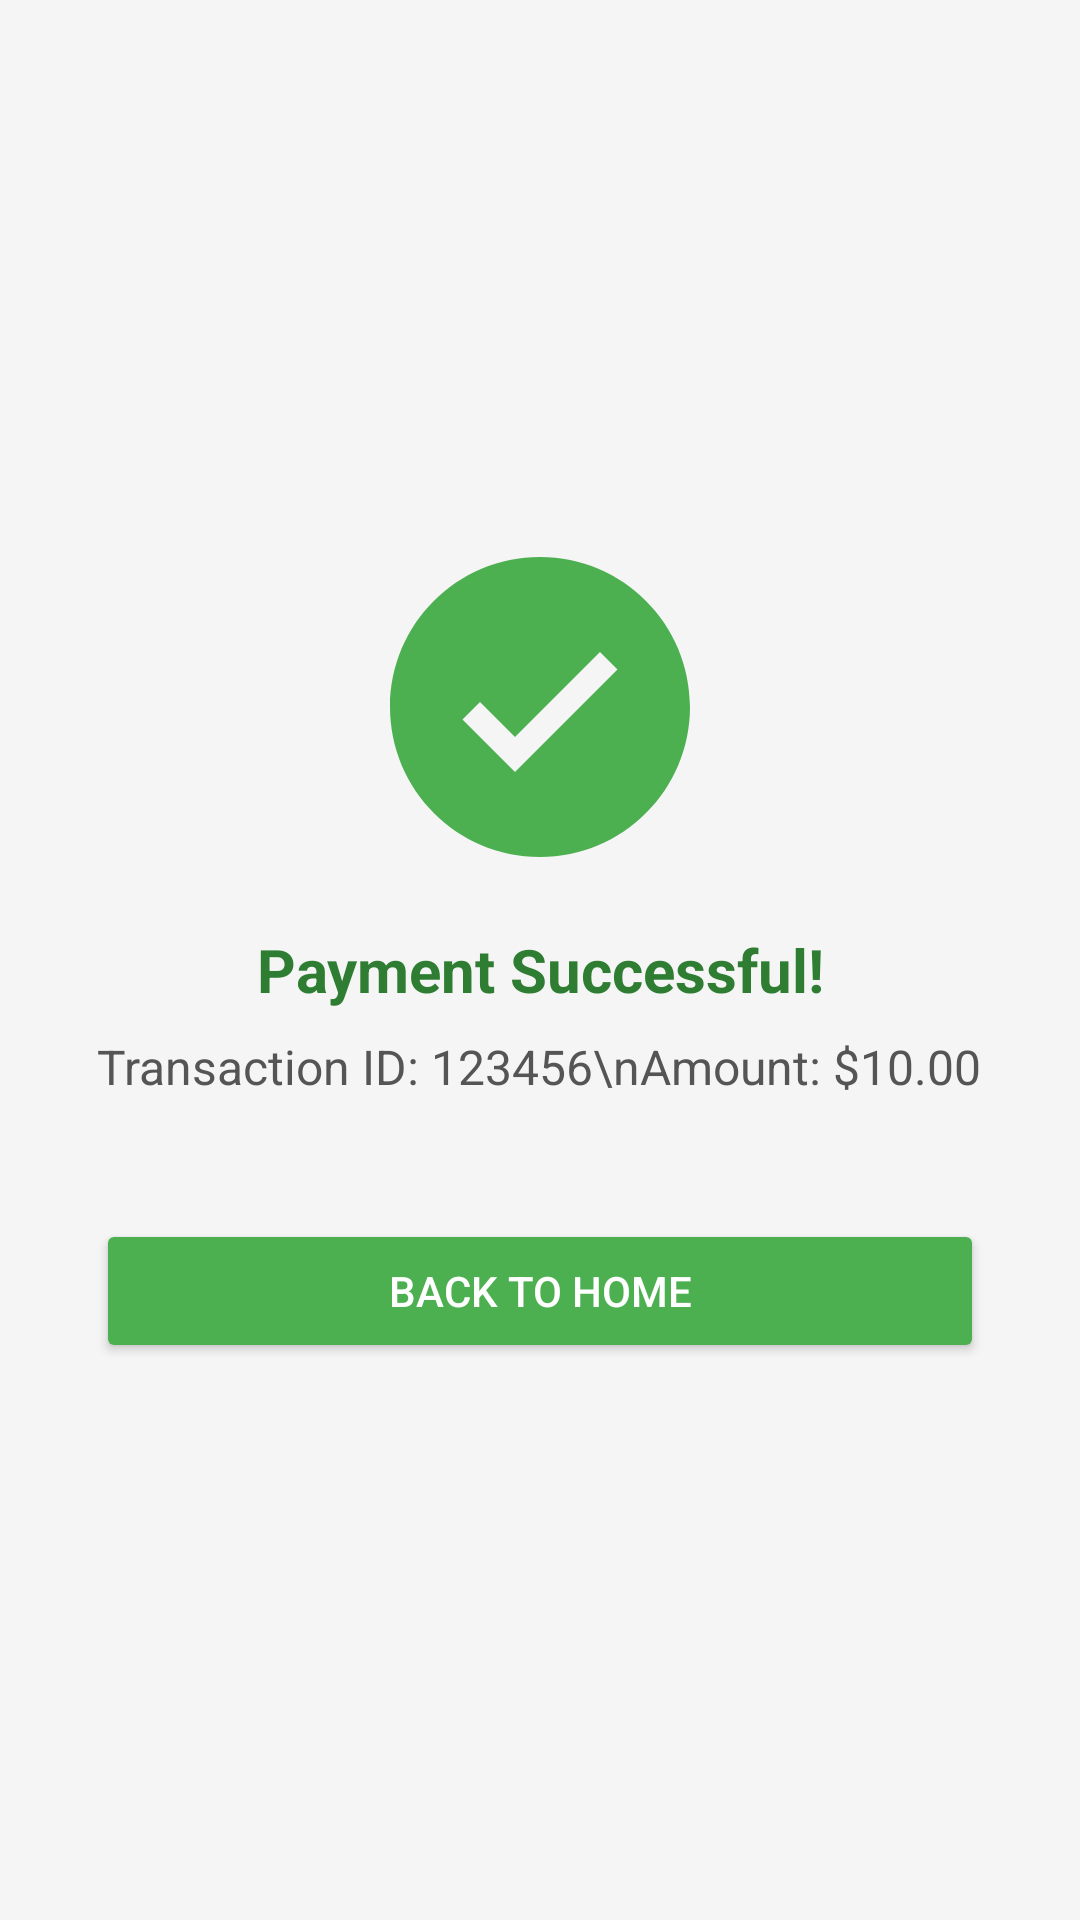

Where icons sit on this 1080×1920 app screen, as bbox(x1, y1, x2, y2):
Success Icon: bbox(390, 557, 690, 857)
